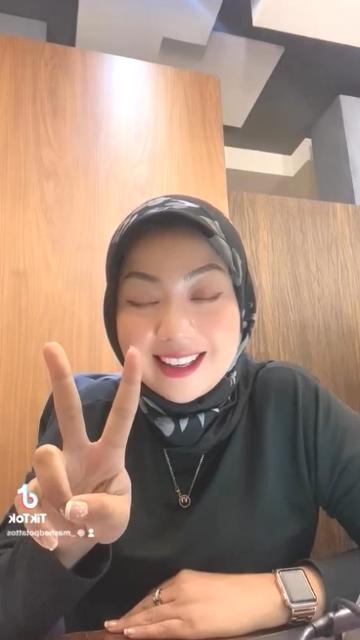V: (14, 338, 153, 550)
